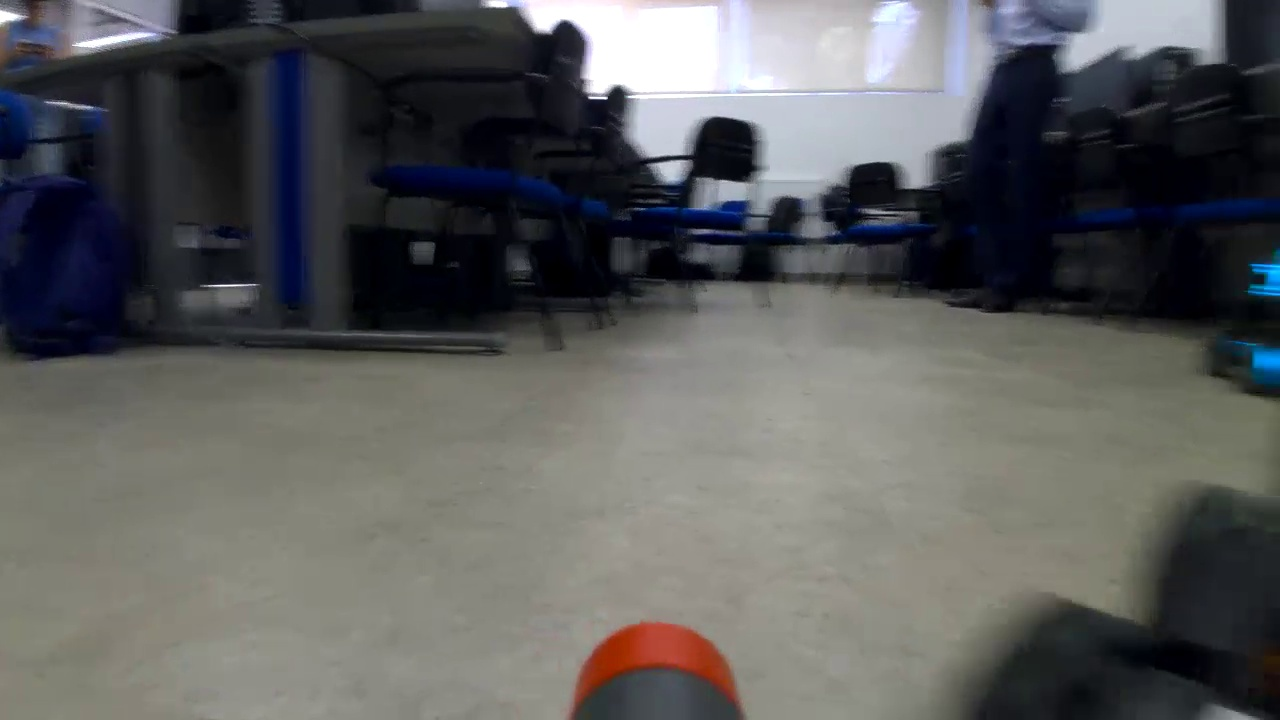robot: (916, 437, 1280, 720), (1190, 226, 1280, 405)
